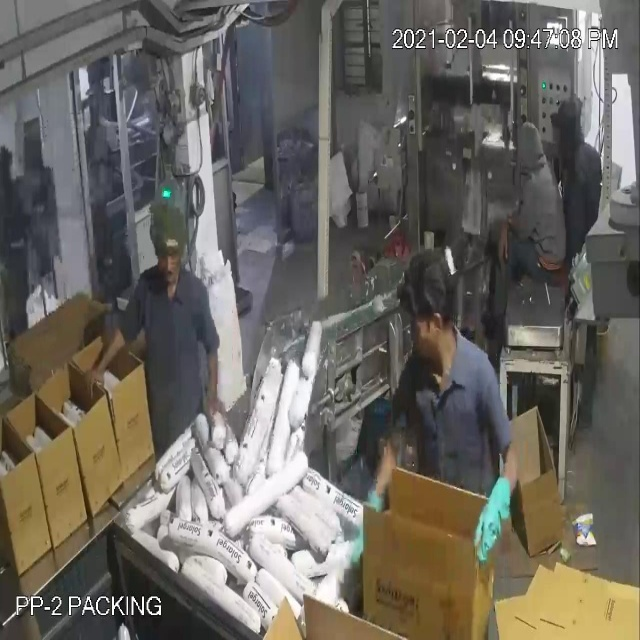Guantes: (466, 439, 526, 581)
Sin_guantes: (74, 312, 135, 404), (192, 336, 224, 428)
